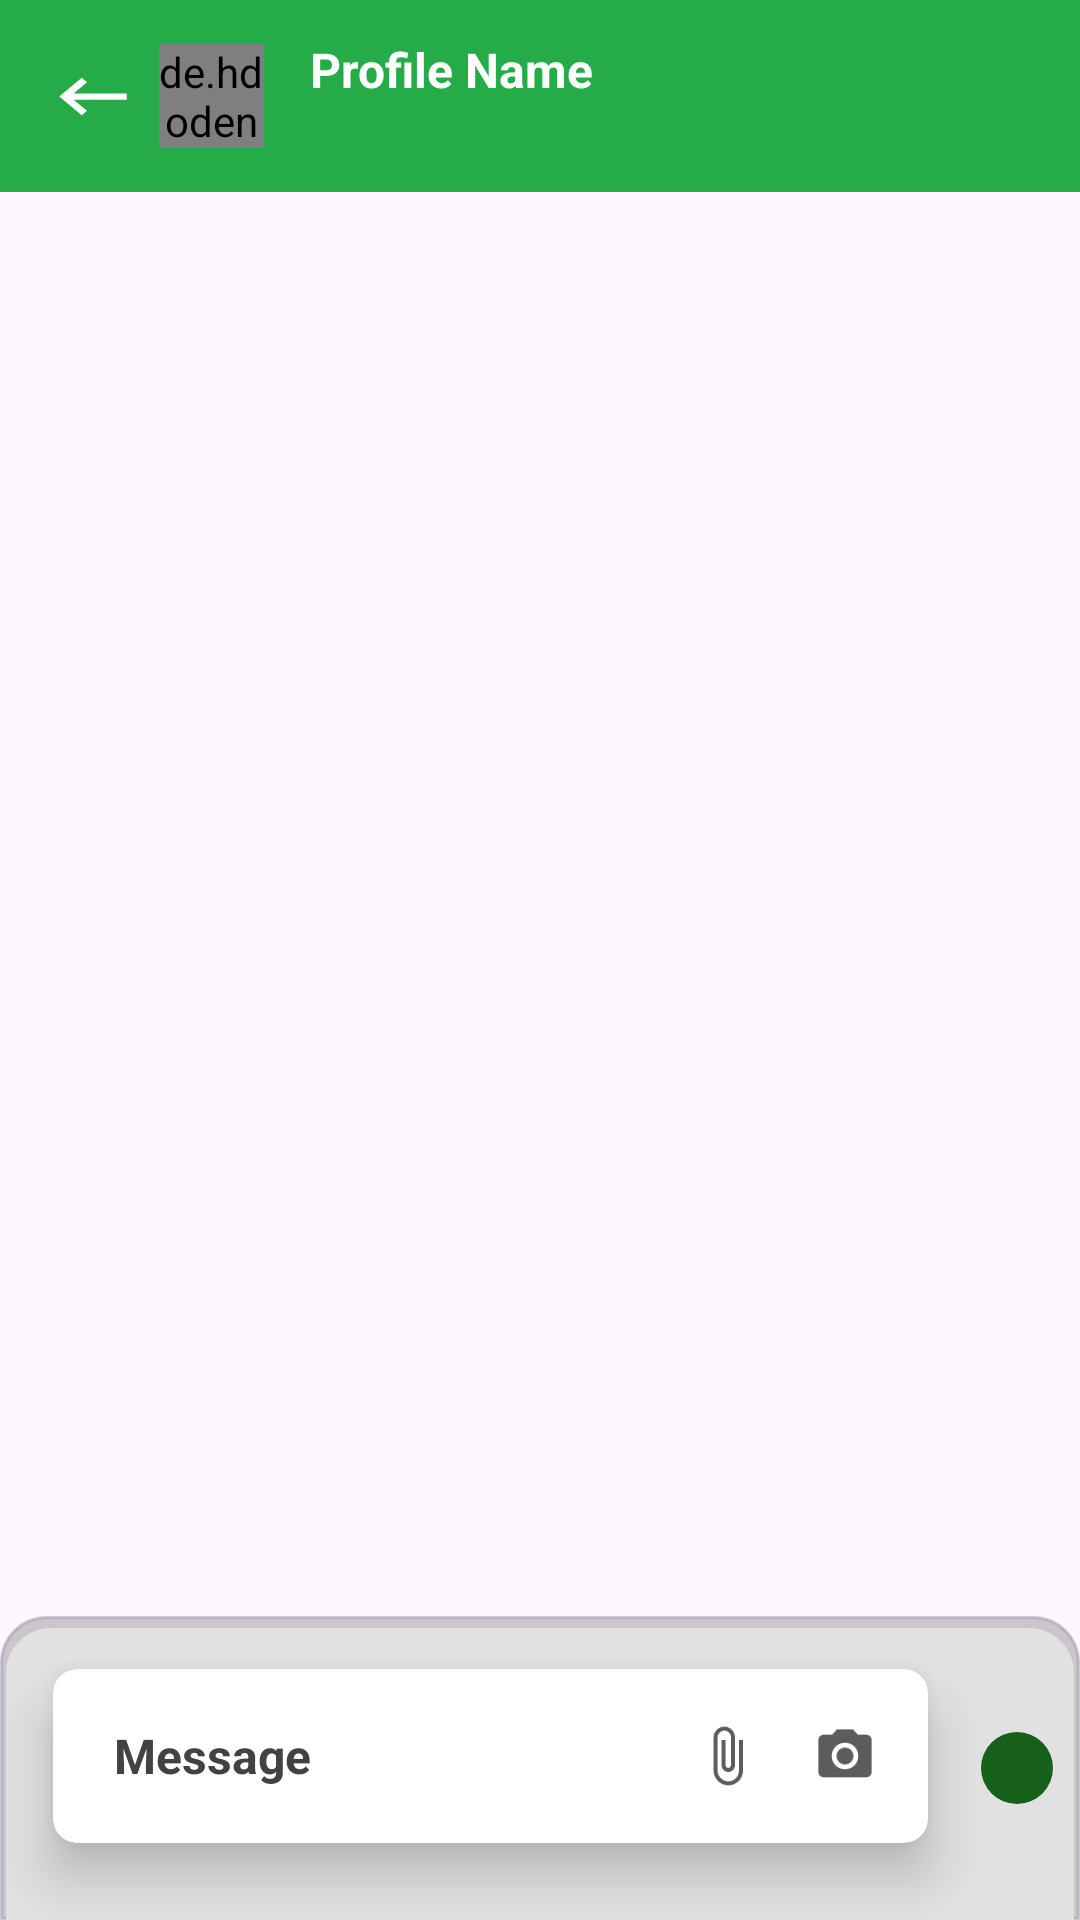

Where icons sit on this 1080 × 1920 app screen, as [x1,y1,x2,y2]:
attach: [713,1726,743,1786]
back: [59,78,127,115]
camera: [818,1729,872,1778]
